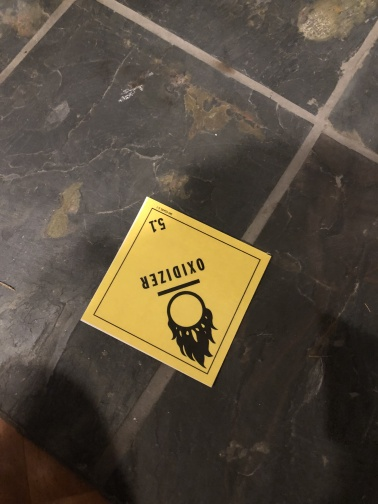Oxidizer: (81, 197, 274, 387)
